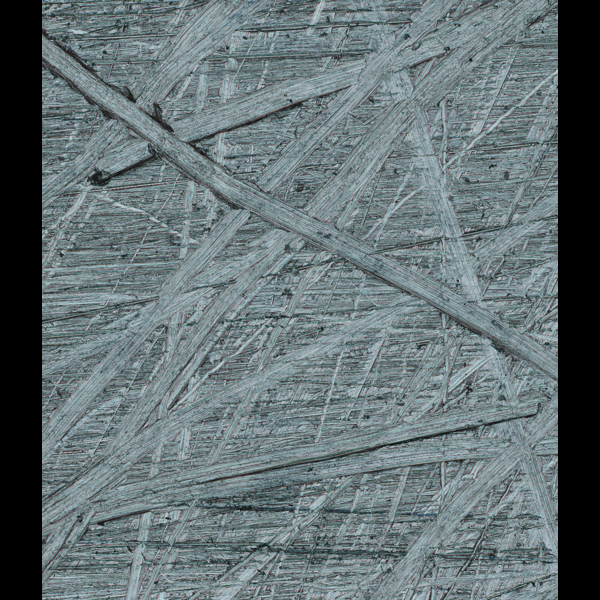d: (44, 4, 557, 594)
